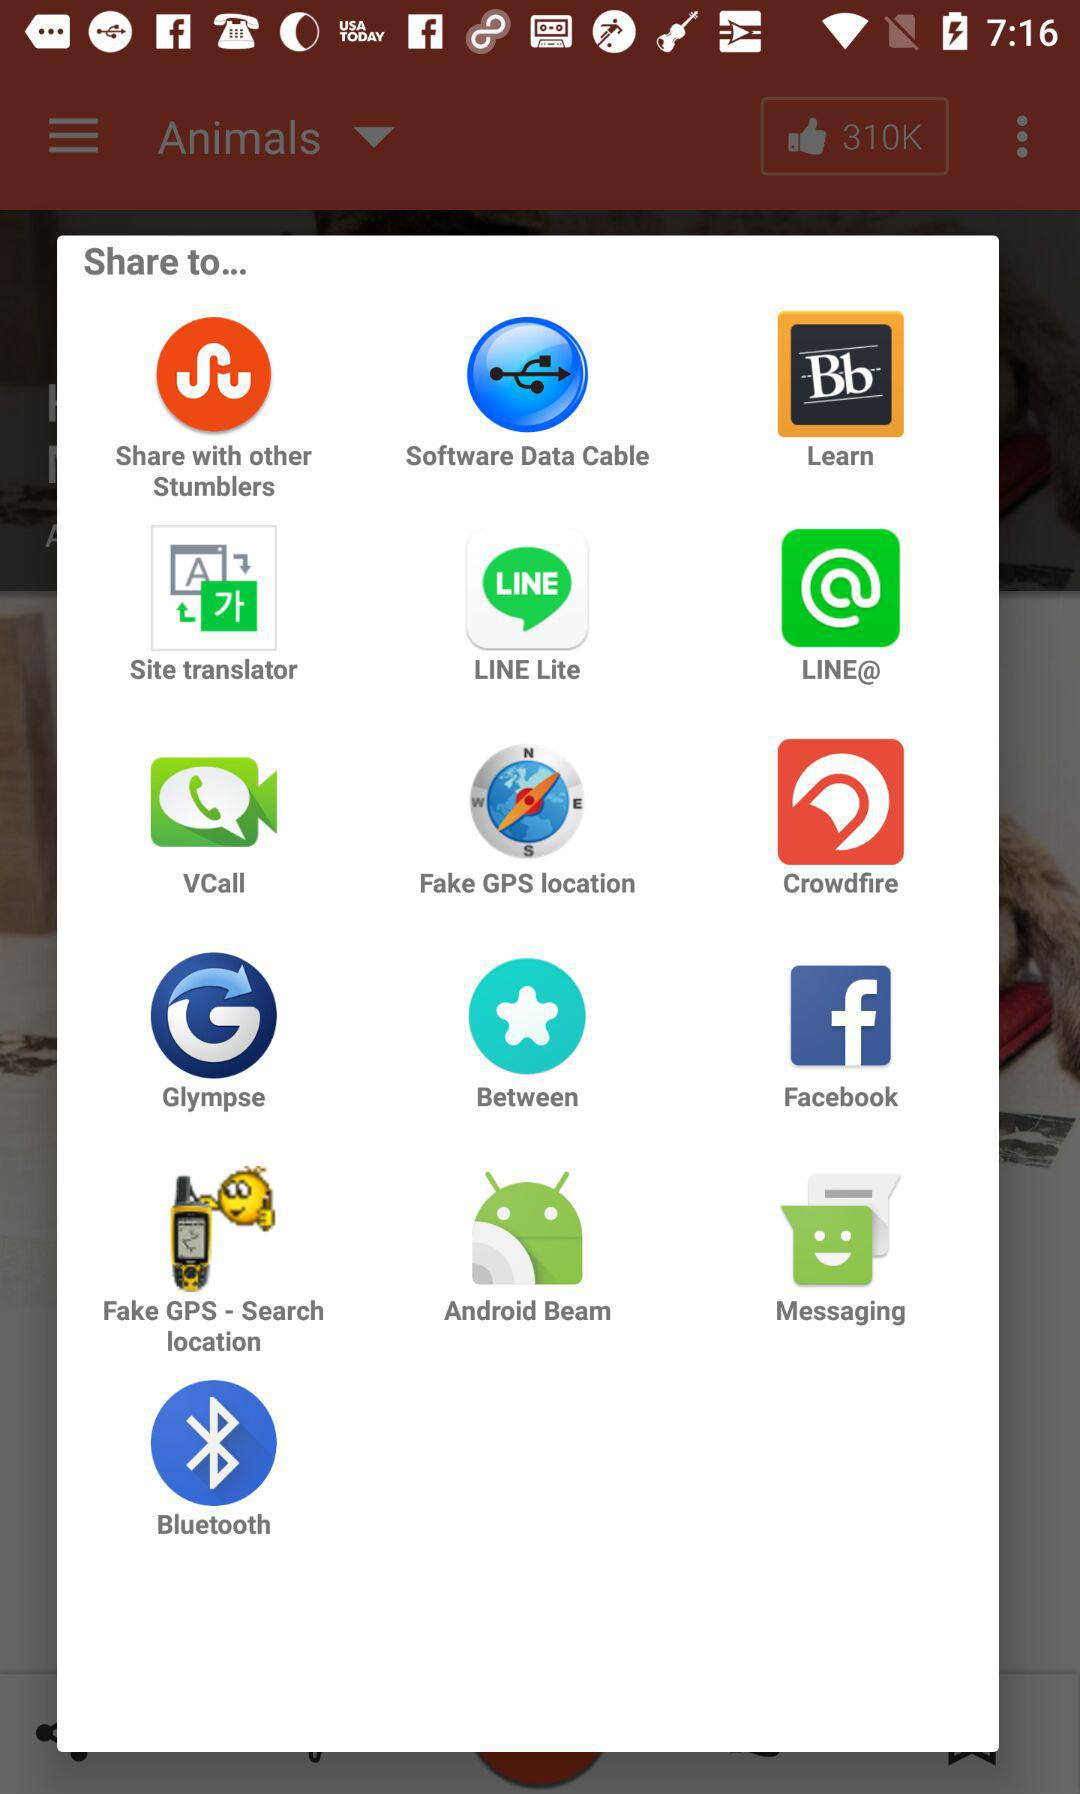Icon: (151, 1379, 278, 1507), (790, 965, 892, 1067), (47, 117, 100, 156), (354, 126, 397, 150), (1015, 115, 1029, 160)
Image: (151, 951, 279, 1082), (150, 525, 279, 652), (778, 738, 904, 866), (778, 311, 904, 438), (468, 527, 591, 651), (781, 528, 901, 648), (468, 317, 589, 434), (169, 1164, 279, 1293), (779, 1173, 903, 1287), (469, 742, 587, 861), (469, 959, 587, 1076), (156, 317, 273, 434), (470, 1167, 584, 1287), (151, 756, 279, 850)
Modal: (58, 236, 999, 1752)
Text: (102, 1299, 325, 1354), (115, 443, 314, 498), (405, 442, 651, 469), (158, 120, 322, 158), (420, 870, 637, 896), (442, 1296, 614, 1325), (85, 247, 249, 277), (129, 657, 300, 682), (776, 1299, 907, 1328), (161, 1085, 268, 1115), (158, 1511, 273, 1536), (784, 1084, 901, 1108), (783, 871, 901, 894), (474, 657, 582, 682), (477, 1085, 580, 1108), (802, 657, 881, 687), (807, 445, 875, 468), (182, 871, 249, 894)
UpperTaskBar: (1, 1, 1080, 64)
